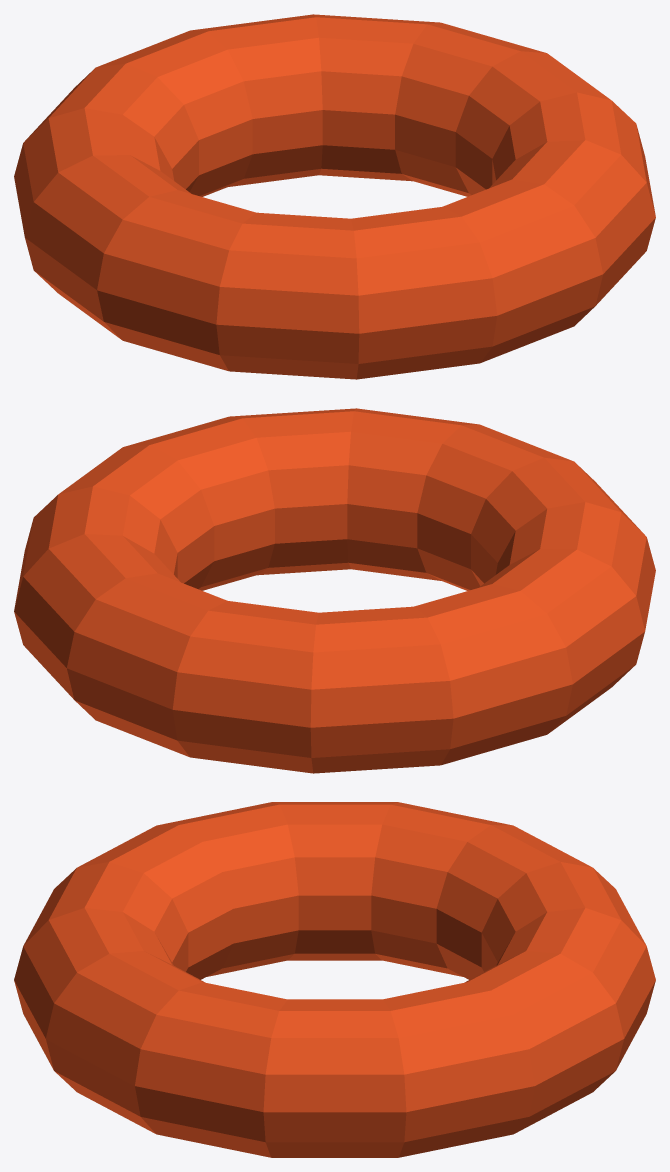
Rendered from 11 Life Gurd tube.FBX.
3 views of the same model, one above another, from view 1: azimuth 30°, elevation 25°; view 2: azimuth 150°, elevation 25°; view 3: azimuth 270°, elevation 25° (orthographic).
Visible parts, largest first — view 1: Life Gurd tube_1; view 2: Life Gurd tube_1; view 3: Life Gurd tube_1.
Boxes of the visible parts, x1,y1,x2,y2 form: Life Gurd tube_1: (14, 14, 655, 379); Life Gurd tube_1: (14, 408, 655, 773); Life Gurd tube_1: (14, 802, 655, 1157).
Size of the model in its own units: 780 by 199 by 800.
